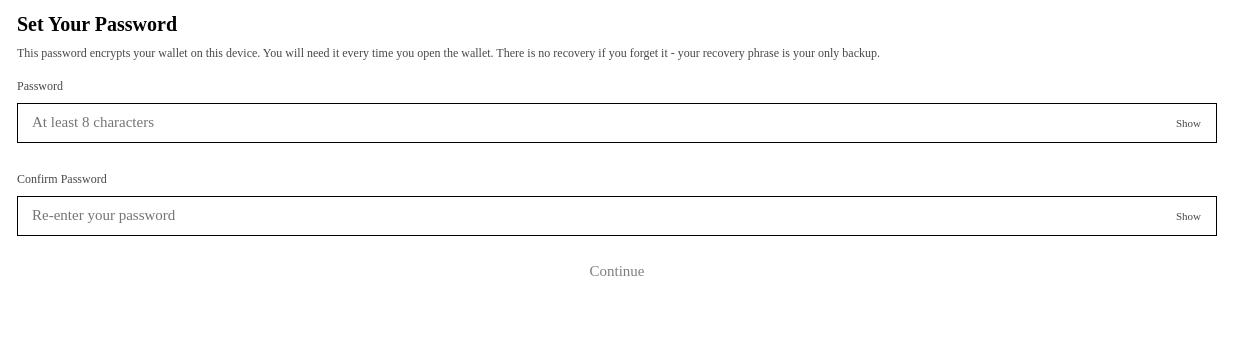
Test: PasswordSetupScreen (B5.1) › shows "Passwords do not match" error
This screenshot has width=1235, height=349.
Type "StrongPass123" into the password field labelled "Password".
click(617, 123); type("StrongPass123")  # box [17,103,1217,143]
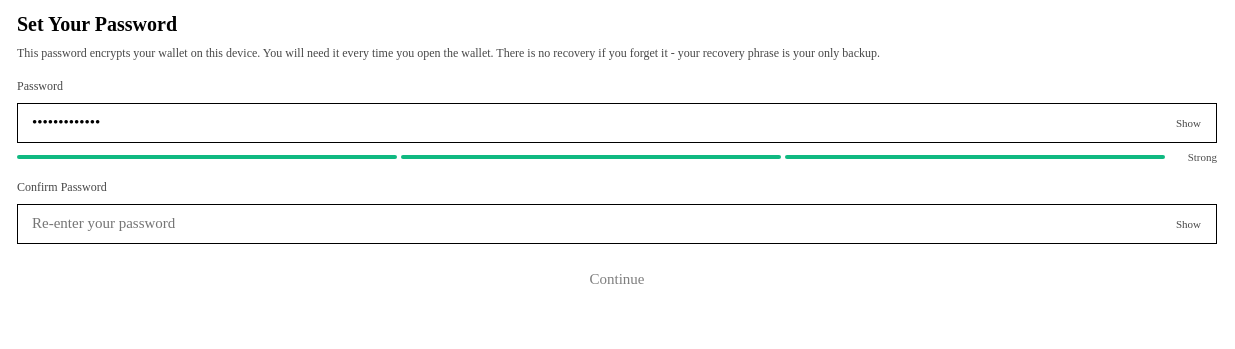
Type "Different123" into the password field labelled "Confirm Password".
click(617, 224); type("Different123")  # box [17,204,1217,244]
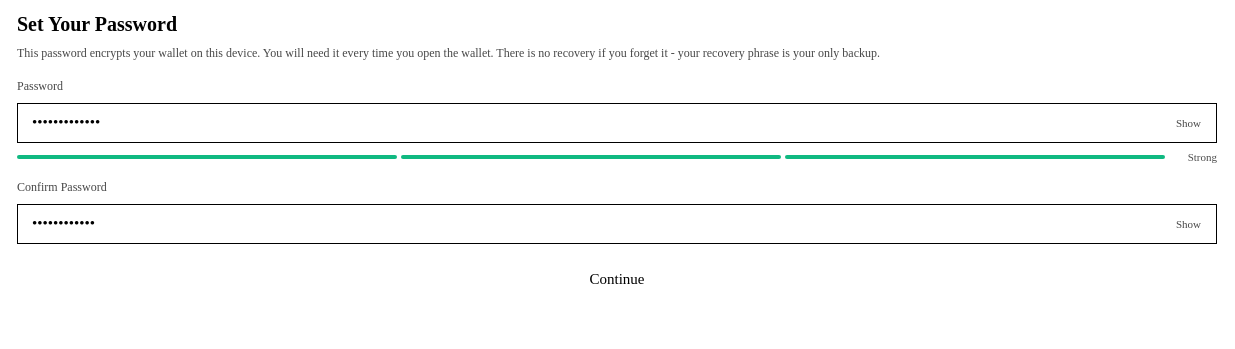
Click the button "Continue".
click(617, 280)  # box [17,260,1217,300]
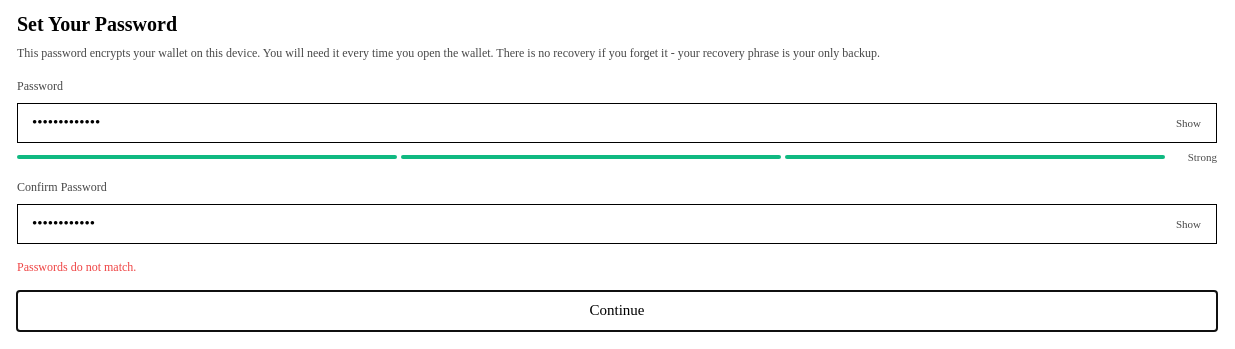
Check: the message "Passwords do not match." is shown, box [17,260,136,274]
